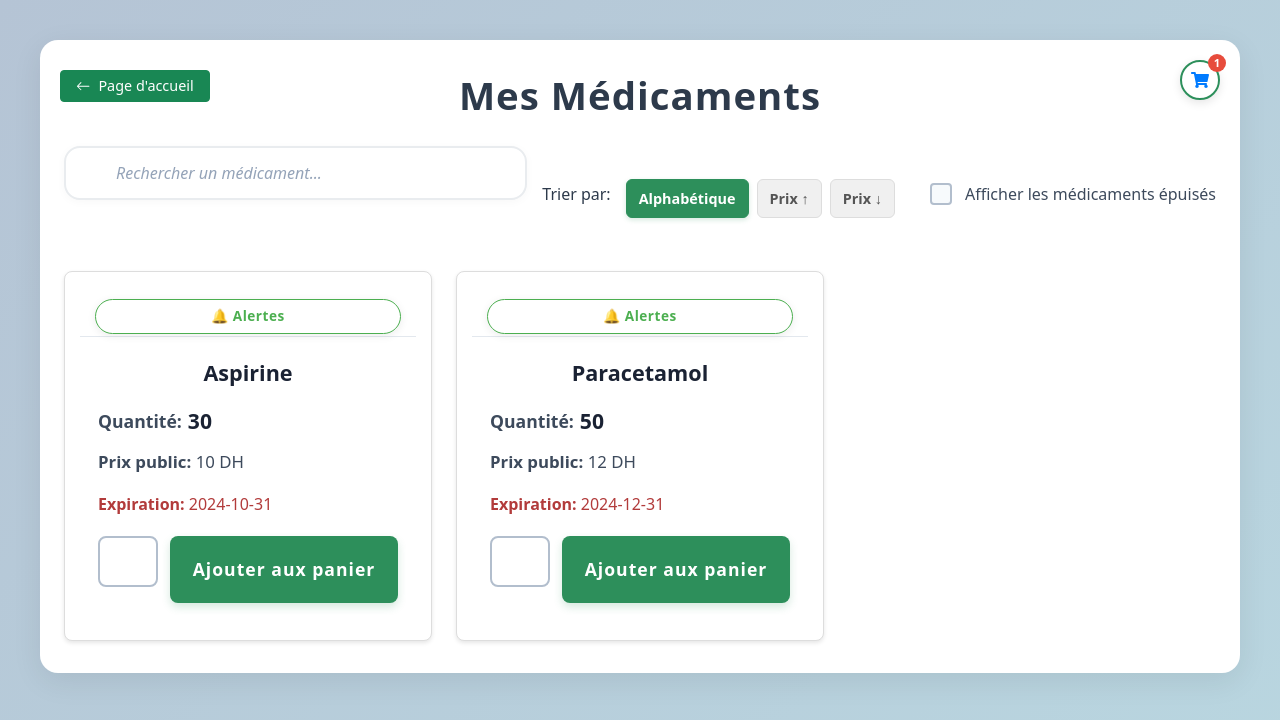
Test: MesMedicaments Component › adds medicament to cart
Expected: the heading "Mes Médicaments" is shown, [459,69,821,121]
Click the button "Ajouter aux panier" below "2024-10-31" at (284, 570), box [170,536,398,603]
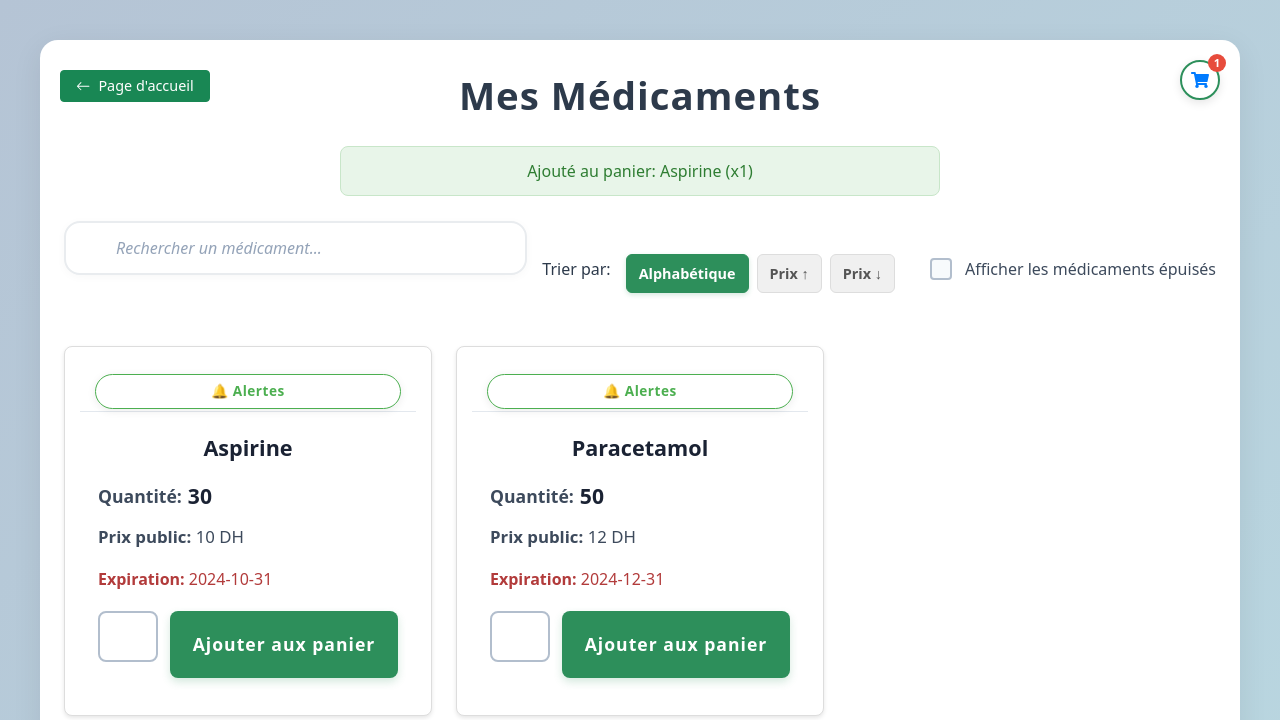
Now the text "Ajouté au panier: Aspirine (x1)" is shown, box [340,146,940,196]
